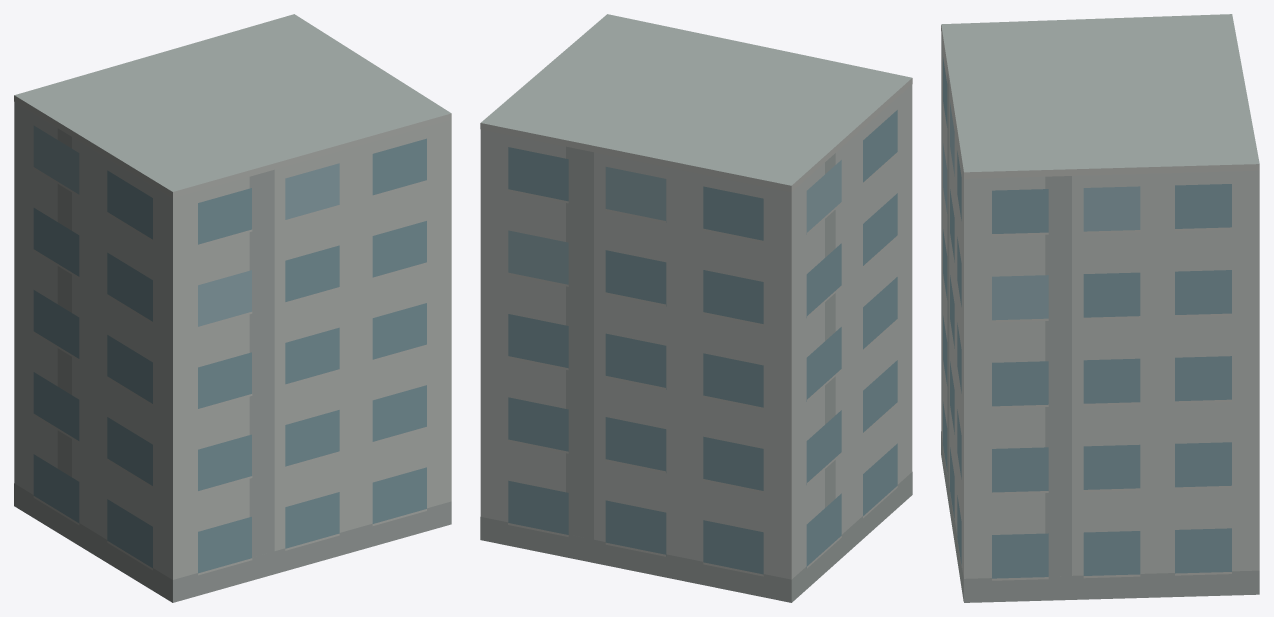
Rendered from survey-upis-32808493.glb.
The picture shows the model from 3 angles, left to right: view 1: azimuth 30°, elevation 25°; view 2: azimuth 150°, elevation 25°; view 3: azimuth 270°, elevation 25°; orthographic projection. The views are drawn at different scales.
Visible parts, largest first — view 1: survey-upis-32808493.tmp; view 2: survey-upis-32808493.tmp; view 3: survey-upis-32808493.tmp.
Boxes of the visible parts, x1,y1,x2,y2 form: survey-upis-32808493.tmp: [14, 14, 451, 602]; survey-upis-32808493.tmp: [480, 14, 912, 602]; survey-upis-32808493.tmp: [941, 14, 1259, 602].
Bounding box in the file's own units: 12.43 × 15.75 × 10.57.
